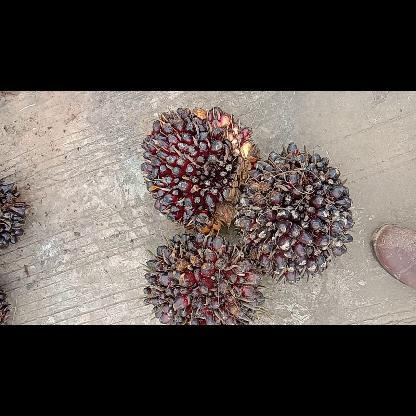TBS mentah: (233, 140, 357, 286), (139, 102, 261, 238), (140, 232, 264, 324)
